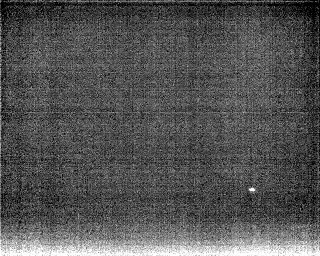AIRPLANE: (246, 185, 257, 196)
